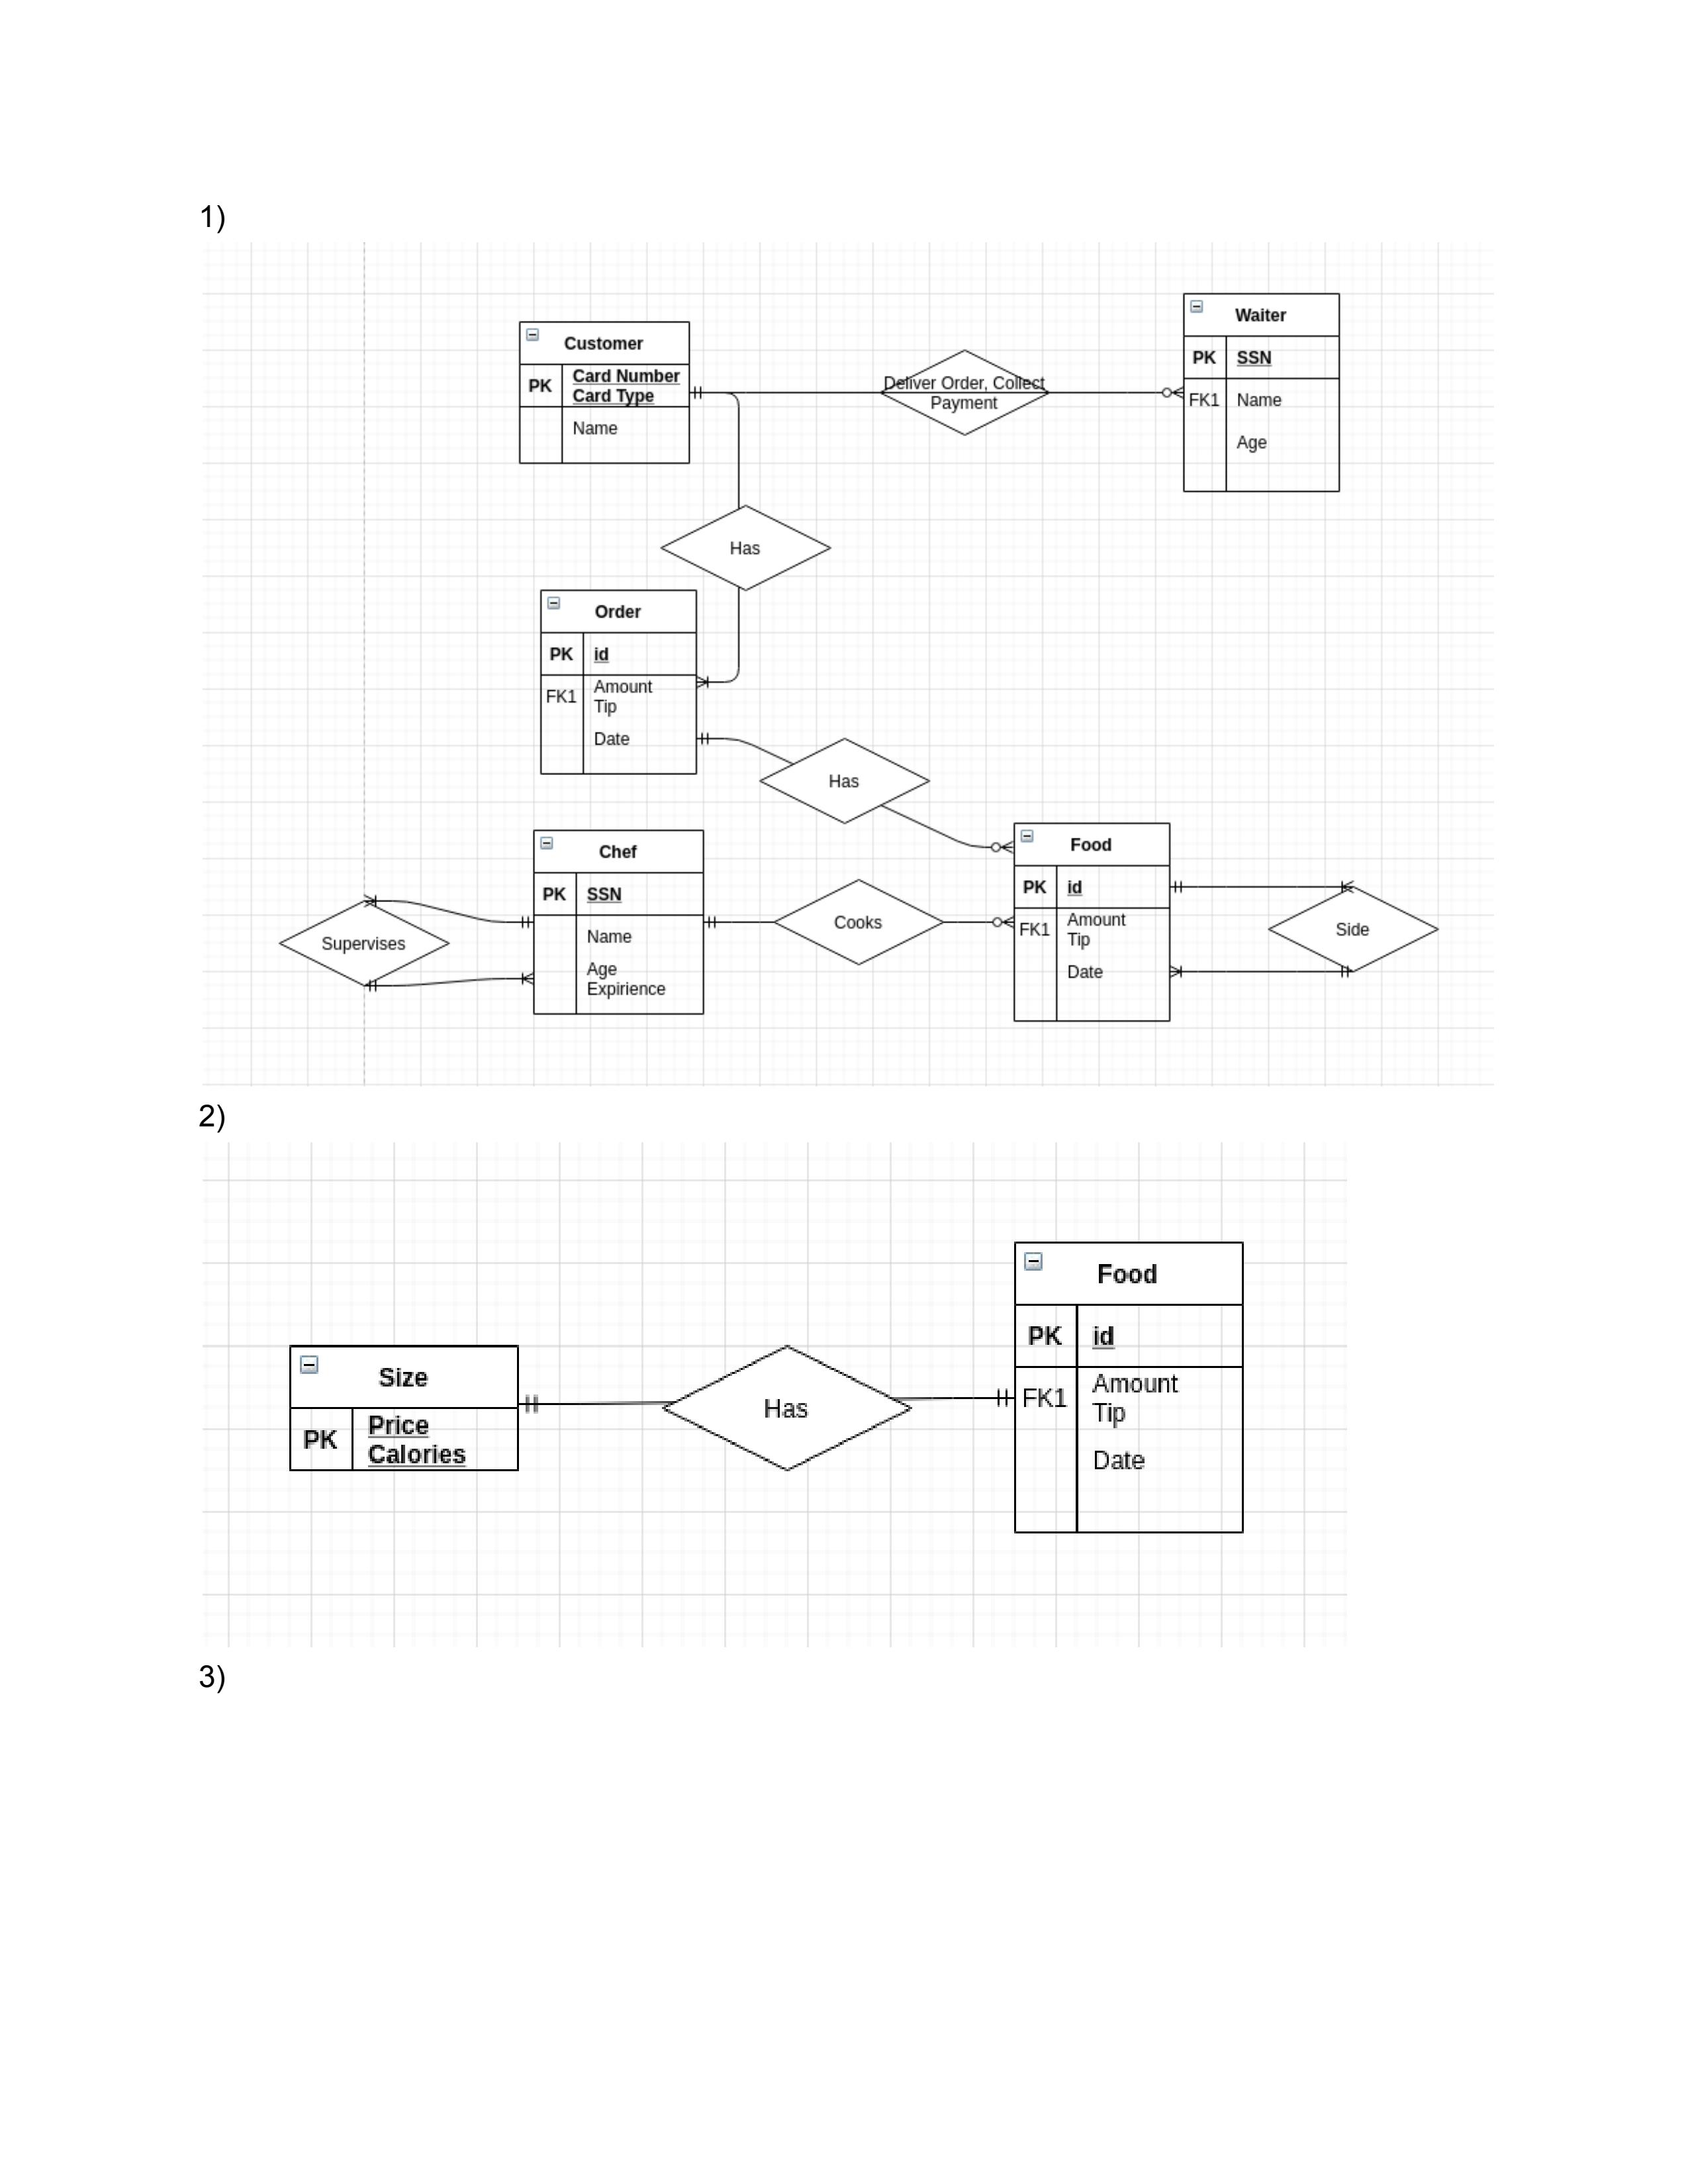Entity: (1011, 1239, 1246, 1537), (532, 828, 706, 1016), (1012, 823, 1172, 1025), (1181, 292, 1340, 493), (285, 1342, 523, 1475), (539, 587, 697, 776), (518, 321, 692, 464)
Relationship: (663, 1345, 915, 1475), (881, 349, 1050, 438), (661, 503, 832, 590), (1270, 886, 1440, 973), (759, 737, 931, 823), (278, 901, 449, 986), (775, 879, 943, 964)
